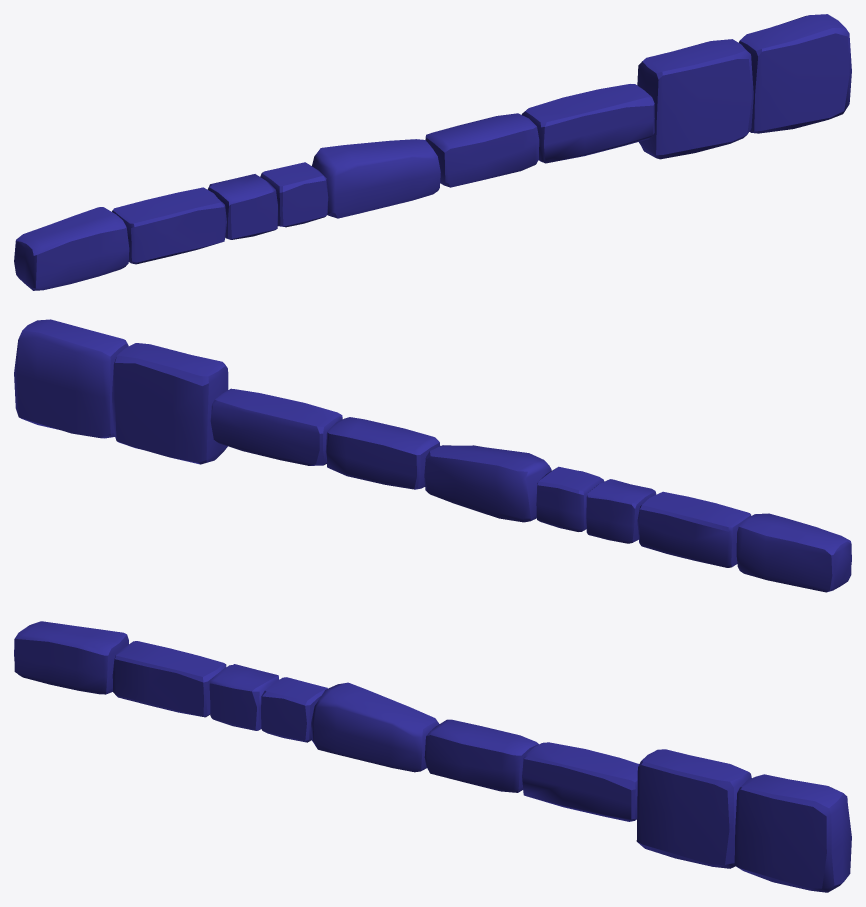
Rendered from Ancient_Stone.fbx.
3 views of the same model, one above another, from view 1: azimuth 30°, elevation 25°; view 2: azimuth 150°, elevation 25°; view 3: azimuth 330°, elevation 25° (orthographic).
Parts seen in each view (by area): view 1: r2, r1, r5, r3, r9, r8, r4, r7, r6; view 2: r2, r1, r5, r3, r9, r8, r4, r7, r6; view 3: r1, r2, r5, r3, r9, r8, r4, r7, r6.
Part boxes in pixels (<box>): r2: <box>637,39,753,159</box>; r1: <box>739,14,851,133</box>; r5: <box>312,139,440,218</box>; r3: <box>521,84,654,163</box>; r9: <box>14,207,129,290</box>; r8: <box>112,187,226,264</box>; r4: <box>425,113,539,187</box>; r7: <box>207,174,277,239</box>; r6: <box>260,162,328,227</box>; r2: <box>112,343,228,464</box>; r1: <box>14,319,128,438</box>; r5: <box>424,445,551,522</box>; r3: <box>210,388,342,465</box>; r9: <box>736,513,851,592</box>; r8: <box>637,491,751,567</box>; r4: <box>325,417,440,489</box>; r7: <box>586,479,656,543</box>; r6: <box>536,466,604,531</box>; r1: <box>734,774,851,892</box>; r2: <box>636,749,751,868</box>; r5: <box>311,682,439,772</box>; r3: <box>522,742,639,821</box>; r9: <box>14,621,128,694</box>; r8: <box>112,641,226,717</box>; r4: <box>424,719,538,792</box>; r7: <box>209,664,279,730</box>; r6: <box>261,677,327,742</box>.
Size of the model in its own units: 20.6 by 1.26 by 2.24.
